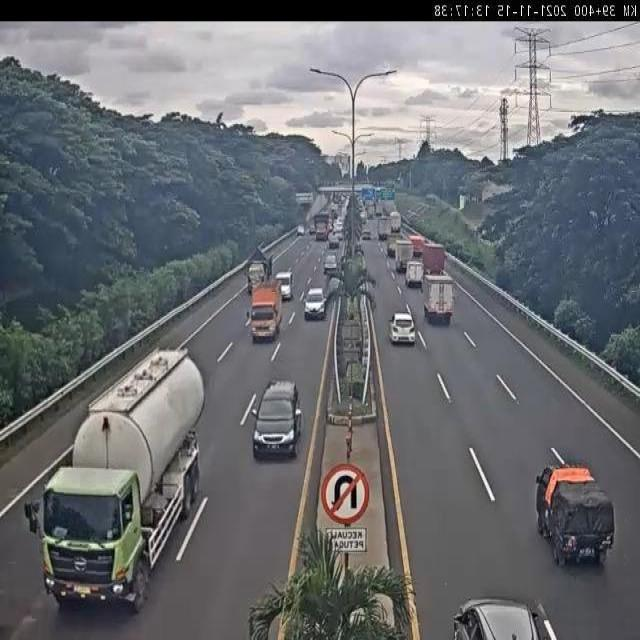Car: (449, 596, 563, 639), (251, 378, 303, 459), (383, 307, 422, 347), (303, 287, 327, 321), (274, 271, 293, 302), (324, 254, 338, 275), (361, 228, 371, 240), (297, 225, 305, 236)
Truck: (22, 343, 209, 615), (538, 450, 618, 571), (426, 271, 464, 333), (249, 278, 284, 342), (246, 247, 272, 295), (421, 241, 446, 277), (394, 240, 414, 274), (405, 259, 424, 288), (314, 213, 331, 242), (408, 235, 426, 258), (389, 211, 401, 234), (377, 218, 389, 240), (386, 238, 396, 257), (331, 204, 338, 220)
